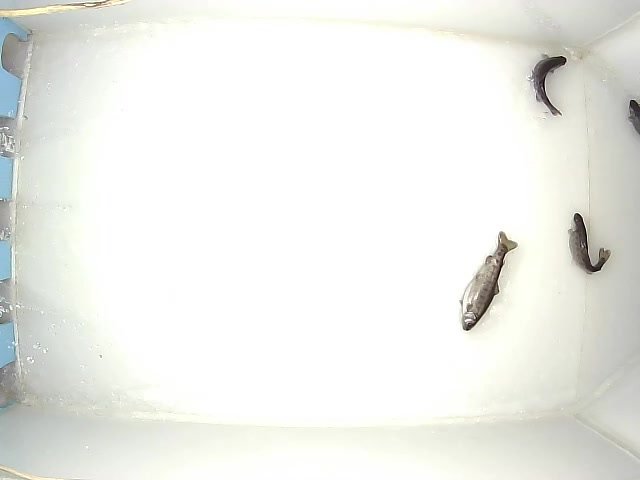fish: (457, 229, 519, 333), (567, 210, 613, 276), (525, 51, 568, 118)
